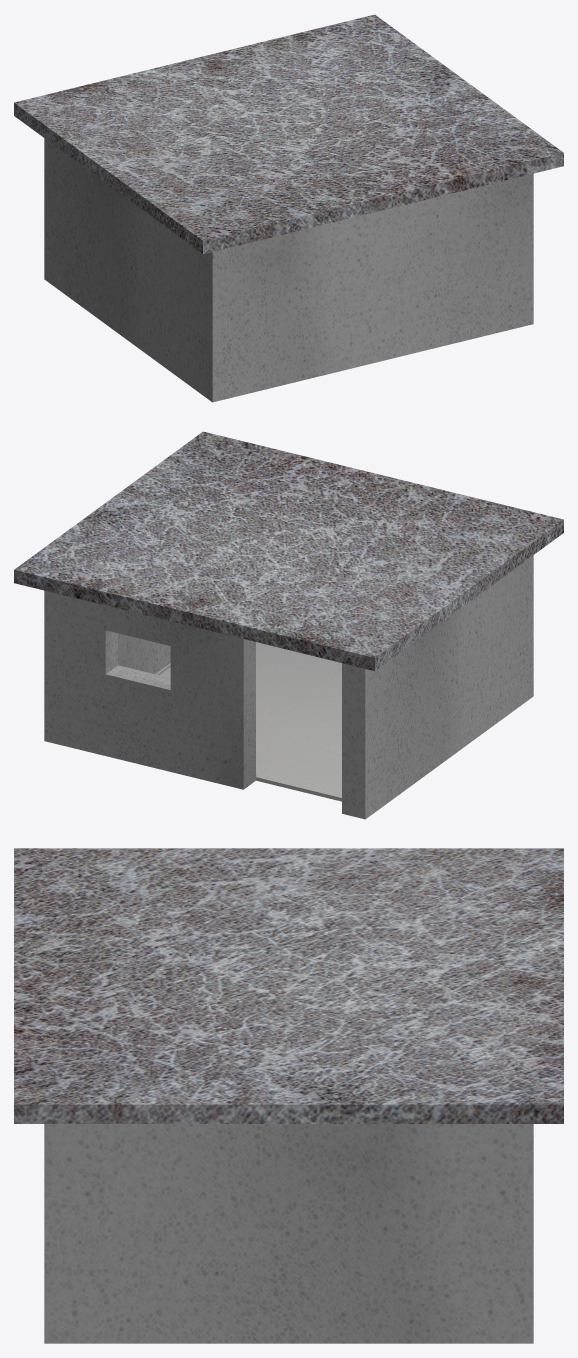
File: Building1_KeyOffice.fbx
3 views of the same model, one above another, from view 1: azimuth 30°, elevation 25°; view 2: azimuth 150°, elevation 25°; view 3: azimuth 270°, elevation 25° (orthographic). The views are drawn at different scales.
Visible parts, largest first — view 1: Building1_KeyOffice2; view 2: Building1_KeyOffice2; view 3: Building1_KeyOffice2.
Part boxes in pixels (<box>): Building1_KeyOffice2: <box>14,14,563,402</box>; Building1_KeyOffice2: <box>14,431,563,819</box>; Building1_KeyOffice2: <box>14,848,563,1343</box>.
Size of the model in its own units: 572 by 263 by 519.
